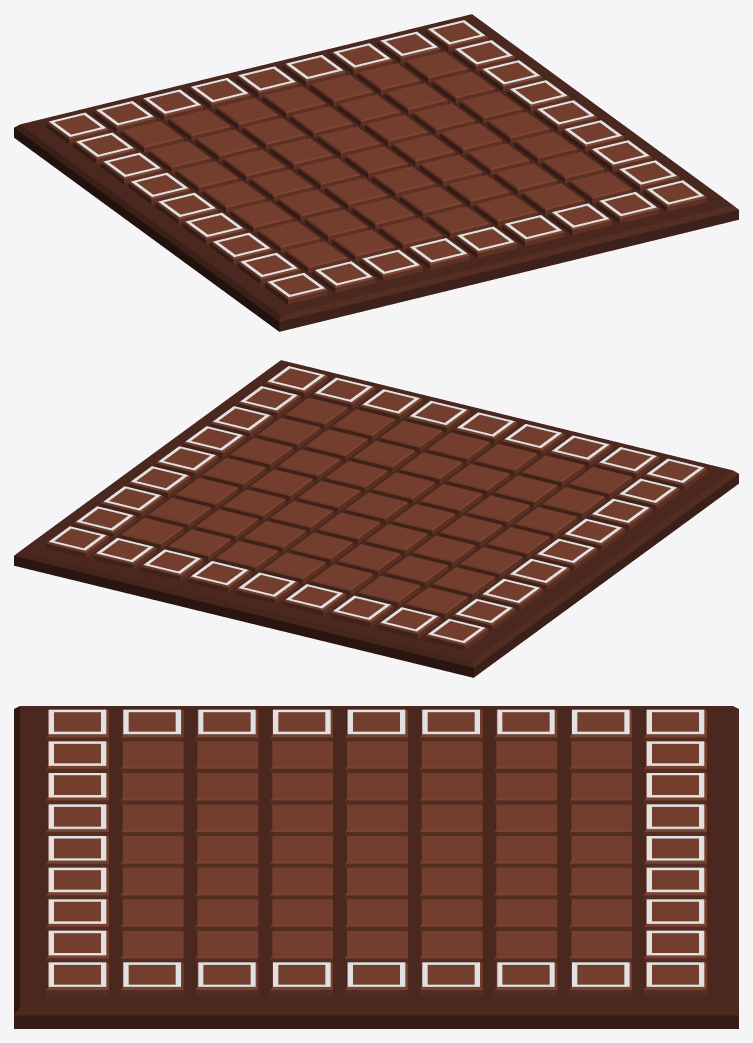
File: tablero_clasico_9x9.fbx
3 views of the same model, one above another, from view 1: azimuth 30°, elevation 25°; view 2: azimuth 150°, elevation 25°; view 3: azimuth 270°, elevation 25° (orthographic). The views are drawn at different scales.
Visible parts, largest first — view 1: TABLERO_CLASICO_9x9, Meta_Fila1, Meta_Fila9, Meta4J_ColumnaI, Meta4J_ColumnaA, Casilla_b3, Casilla_e3, Casilla_e6, Casilla_g8, Casilla_h7, Casilla_b6, Casilla_d8 (+74 smaller); view 2: TABLERO_CLASICO_9x9, Meta_Fila9, Meta_Fila1, Meta4J_ColumnaI, Meta4J_ColumnaA, Casilla_b7, Casilla_e4, Casilla_e7, Casilla_g2, Casilla_h3, Casilla_b4, Casilla_d2 (+74 smaller); view 3: TABLERO_CLASICO_9x9, Meta_Fila9, Meta_Fila1, Meta4J_ColumnaA, Meta4J_ColumnaI, Casilla_f3, Casilla_f7, Casilla_f2, Casilla_f4, Casilla_f5, Casilla_f6, Casilla_f8 (+74 smaller).
Boxes of the visible parts, x1,y1,x2,y2 form: TABLERO_CLASICO_9x9: (14,14,738,331); Meta_Fila1: (268,180,703,297); Meta_Fila9: (49,20,484,136); Meta4J_ColumnaI: (455,40,676,184); Meta4J_ColumnaA: (76,132,297,277); Casilla_b3: (257,221,320,252); Casilla_e3: (399,186,462,217); Casilla_e6: (317,126,380,157); Casilla_g8: (357,63,420,94); Casilla_h7: (432,71,495,103); Casilla_b6: (175,161,238,192); Casilla_d8: (215,98,278,129); TABLERO_CLASICO_9x9: (14,360,738,677); Meta_Fila9: (49,526,484,643); Meta_Fila1: (268,366,703,482); Meta4J_ColumnaI: (76,386,297,530); Meta4J_ColumnaA: (455,478,676,623); Casilla_b7: (432,567,495,598); Casilla_e4: (372,472,435,503); Casilla_e7: (290,532,353,563); Casilla_g2: (332,409,395,440); Casilla_h3: (257,417,320,449); Casilla_b4: (514,507,577,538); Casilla_d2: (474,444,537,475); TABLERO_CLASICO_9x9: (14,706,738,1028); Meta_Fila9: (646,709,704,986); Meta_Fila1: (48,709,106,986); Meta4J_ColumnaA: (123,709,629,734); Meta4J_ColumnaI: (123,962,629,986); Casilla_f3: (195,867,258,899); Casilla_f7: (494,867,557,899); Casilla_f2: (121,867,183,899); Casilla_f4: (270,867,332,899); Casilla_f5: (345,867,407,899); Casilla_f6: (420,867,482,899); Casilla_f8: (569,867,631,899).
Size of the model in its own units: 970 by 40.6 by 970.
